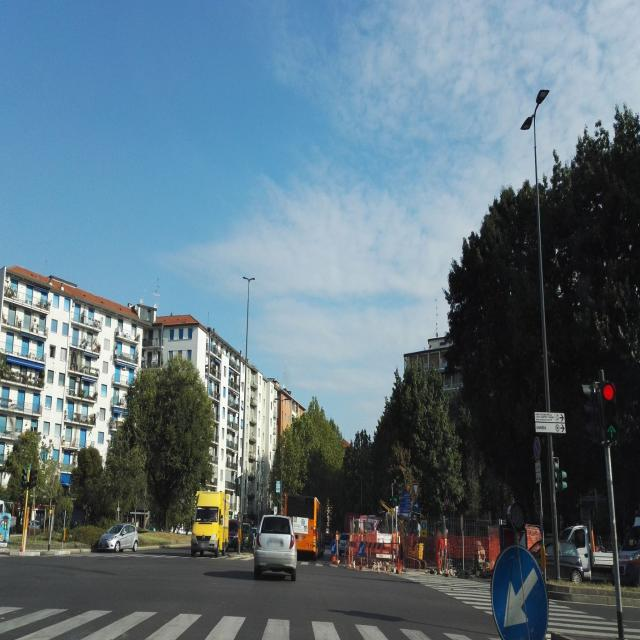forb_stopping: (533, 437, 540, 462)
